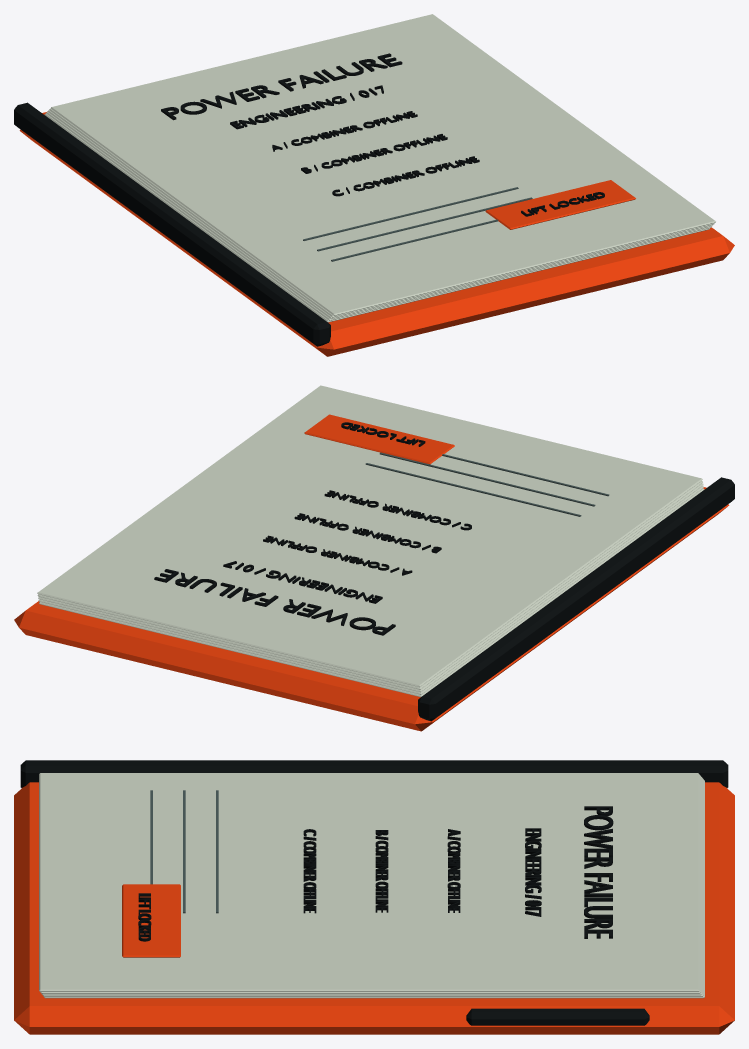
Rendered from SM_MP_Flow_ServiceFolder.fbx.
3 views of the same model, one above another, from view 1: azimuth 30°, elevation 25°; view 2: azimuth 150°, elevation 25°; view 3: azimuth 270°, elevation 25° (orthographic). The views are drawn at different scales.
Visible parts, largest first — view 1: SM_MP_Flow_ServiceFolder; view 2: SM_MP_Flow_ServiceFolder; view 3: SM_MP_Flow_ServiceFolder.
Boxes of the visible parts, box(x1,y1,x2,y2) form: SM_MP_Flow_ServiceFolder: box(14, 14, 734, 356); SM_MP_Flow_ServiceFolder: box(14, 385, 734, 731); SM_MP_Flow_ServiceFolder: box(14, 760, 734, 1034).
Bounding box in the file's own units: 43.4 × 55 × 4.7.
1 material, 1 textured.
